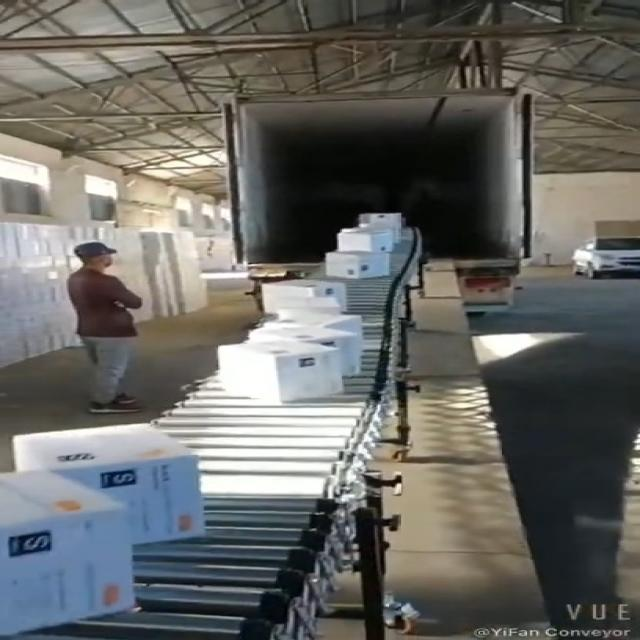Convoyeur: (0, 226, 461, 639)
